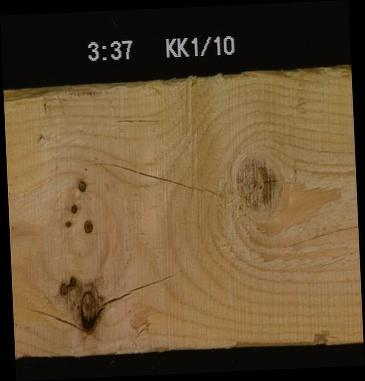dry_knot: (82, 218, 93, 233), (76, 178, 86, 191)
small_knot: (63, 218, 72, 228), (69, 202, 77, 213)
sound_knot: (234, 158, 276, 212)
split: (89, 157, 223, 200), (99, 266, 192, 309), (281, 219, 358, 248), (25, 303, 87, 337), (113, 115, 173, 124)
wave: (3, 84, 133, 106), (229, 325, 335, 345), (133, 337, 196, 351)
